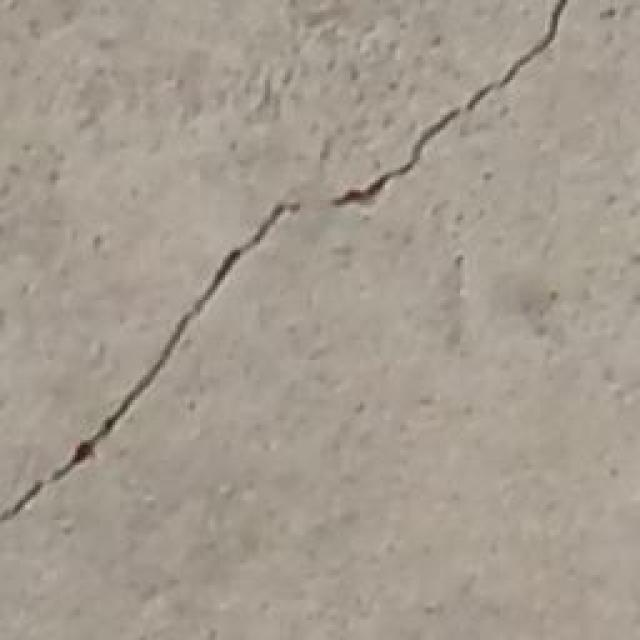concrete-crack: (2, 0, 572, 521)
